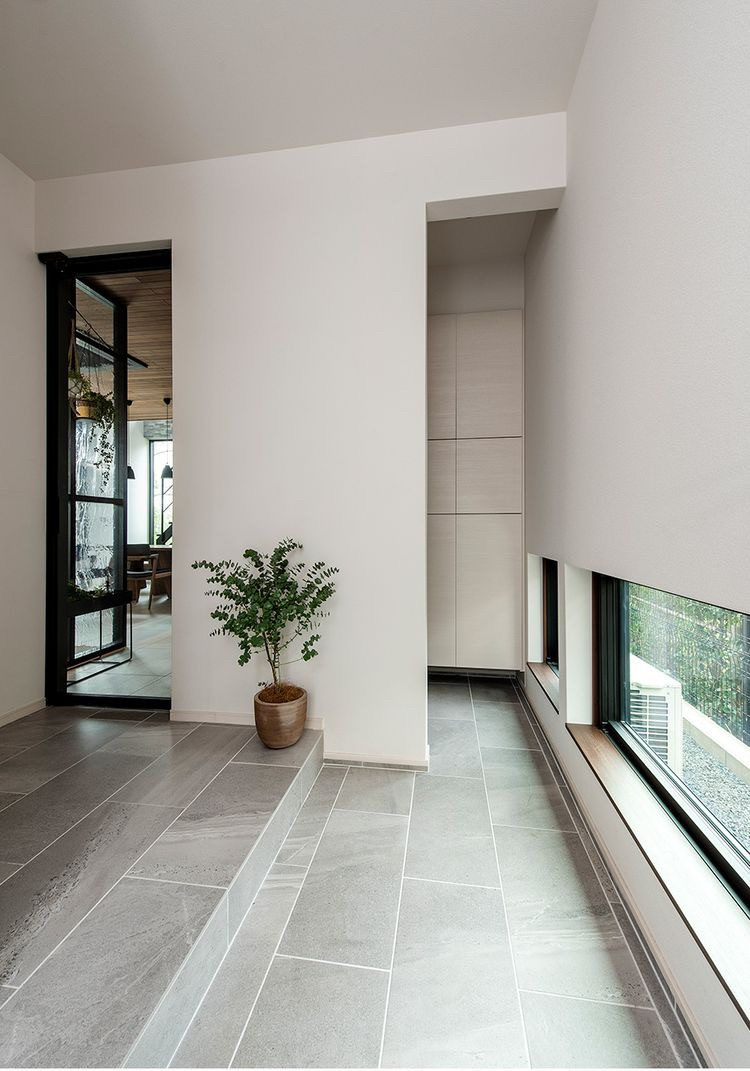floor: (167, 674, 708, 1069)
